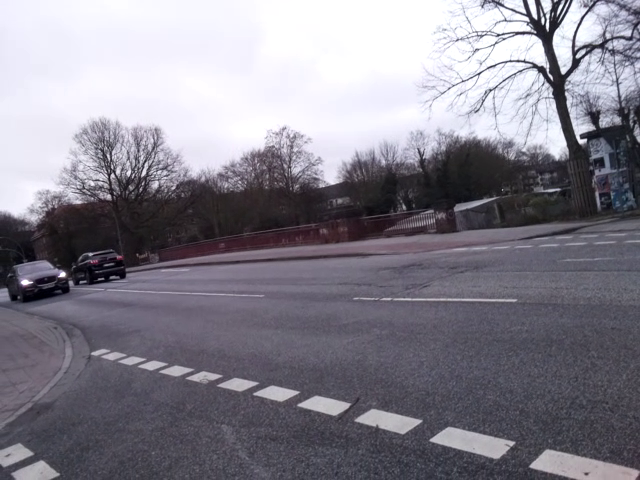car: (3, 251, 68, 313), (75, 240, 126, 290)
